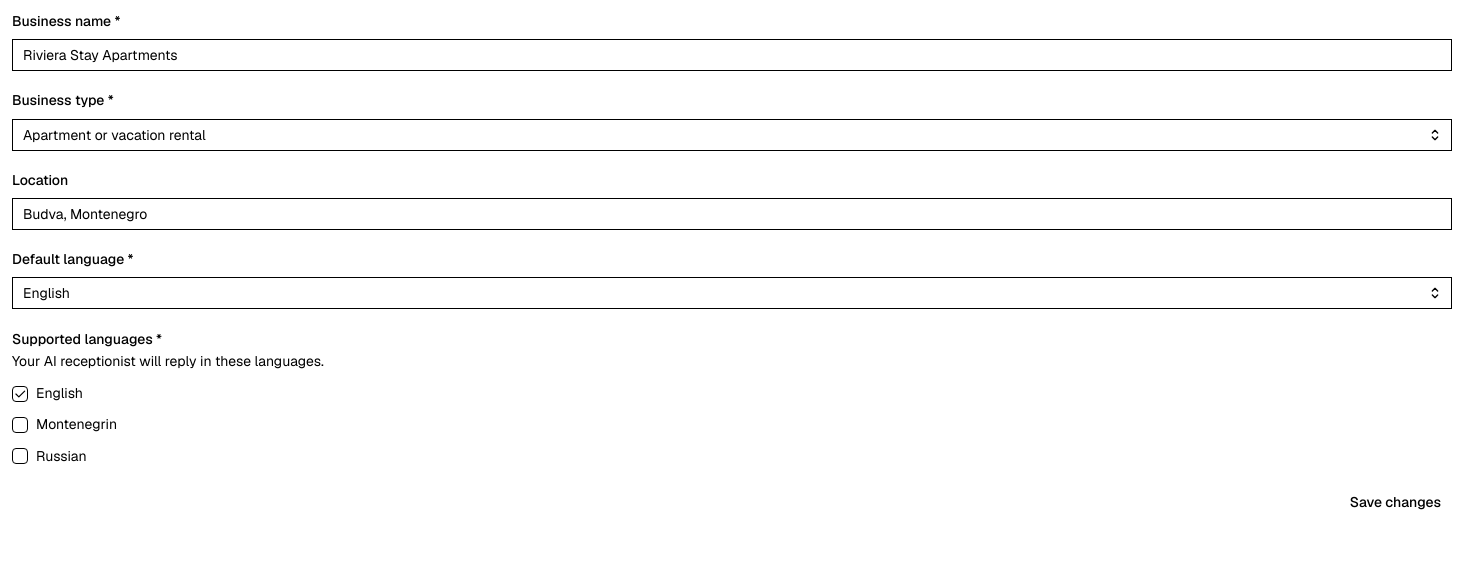
Scenario: BusinessProfileForm › shows a friendly error and keeps the typed values when saving fails
Click the button "Save changes": click(1395, 502) [1339,486,1452,518]
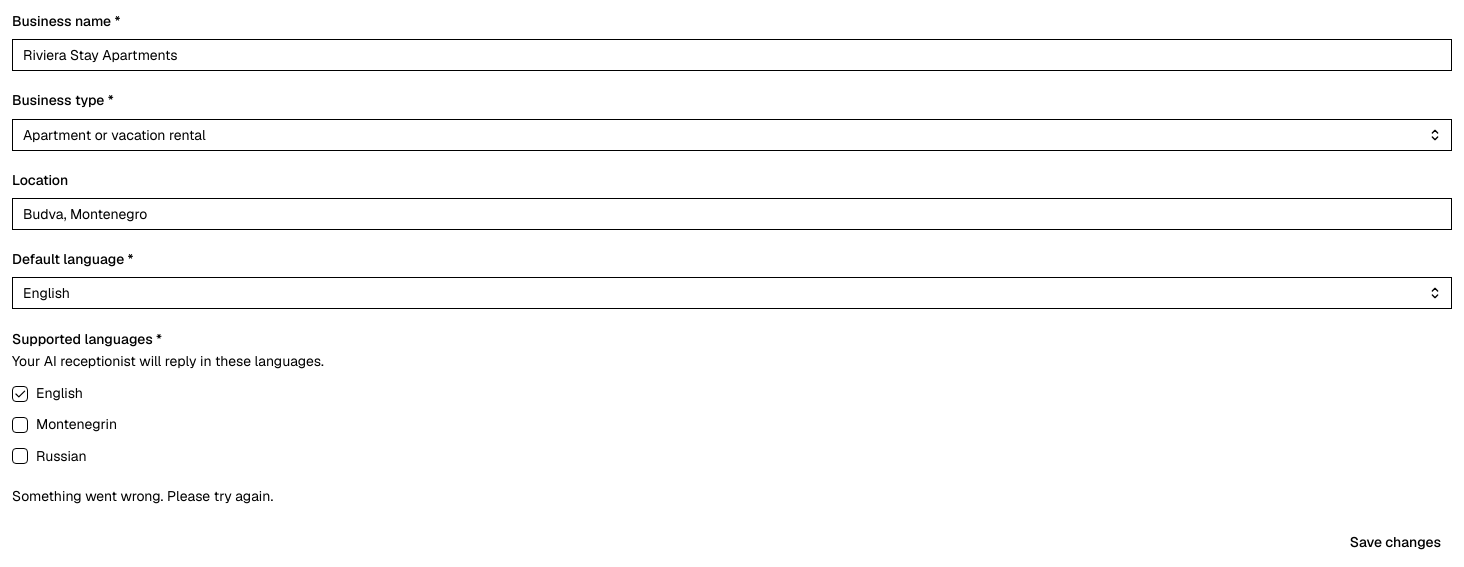
Expected: the field labelled "Business name *" holds "Riviera Stay Apartments", [12,39,1452,71]
Now the text "Something went wrong. Please try again." is shown, box [12,487,273,505]
